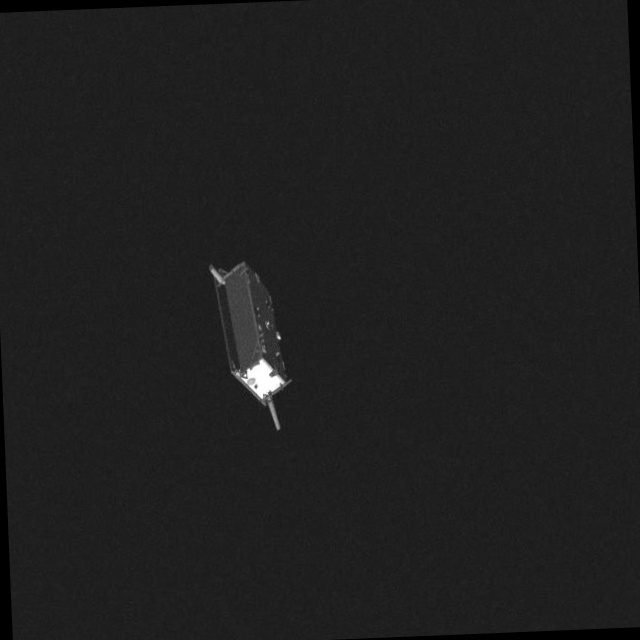medium_debris: (205, 239, 303, 444)
